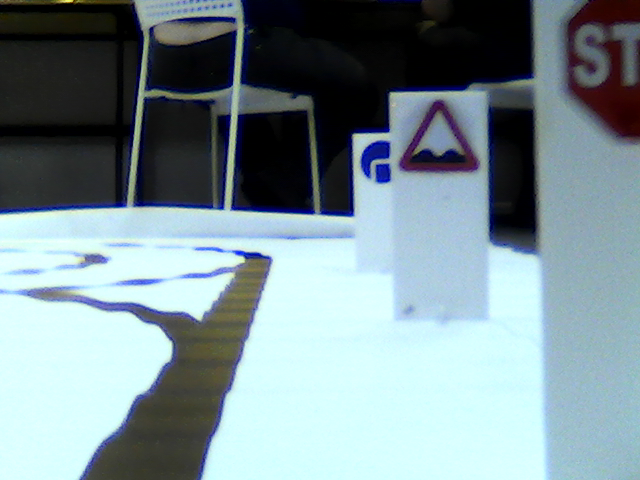Nerov: (398, 96, 482, 172)
Right: (361, 140, 390, 180)
